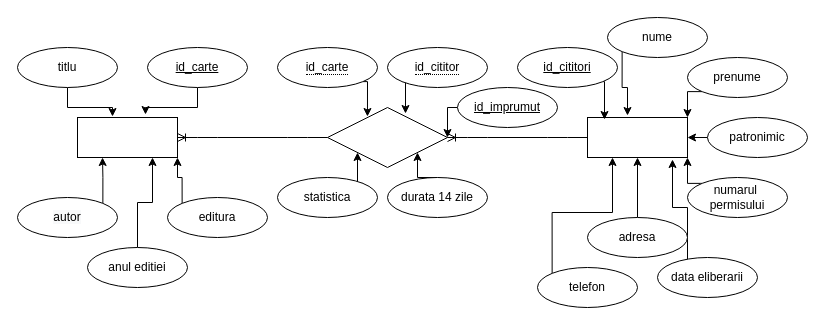
Some shapes in this 825 by 325 pixel diagram are drawn without their labels. Here are the shapes that lost their labels. From the top down, the centre of each, then its label:
(127,137): Carte
(387,137): Imprumuta
(637,137): Cititori
